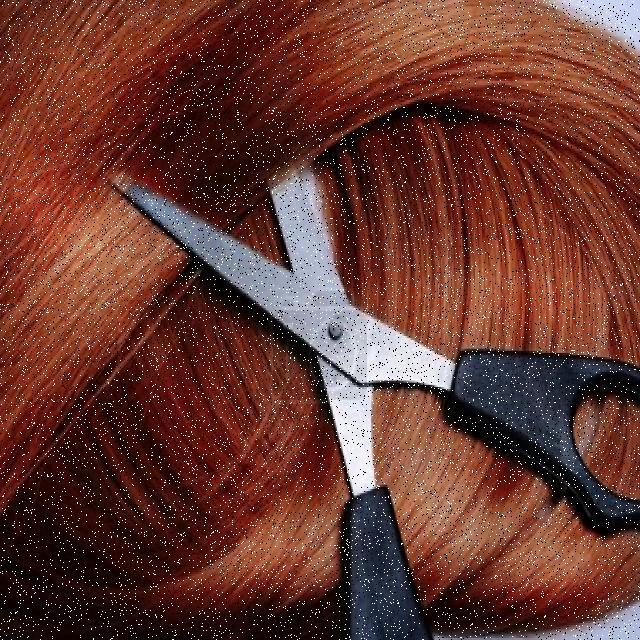scissors: (47, 4, 640, 640)
